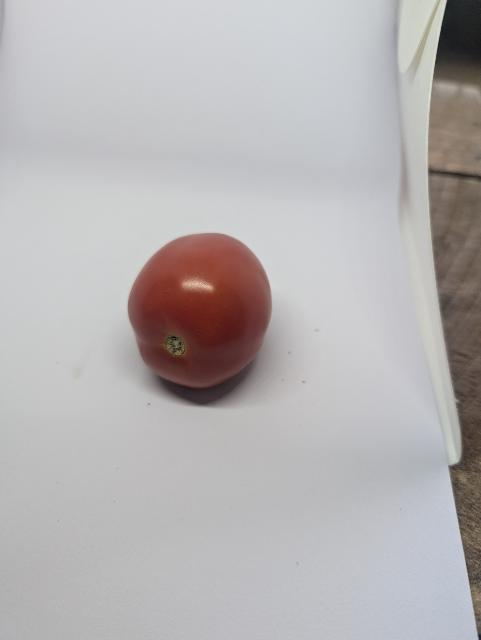red: (113, 225, 284, 408)
